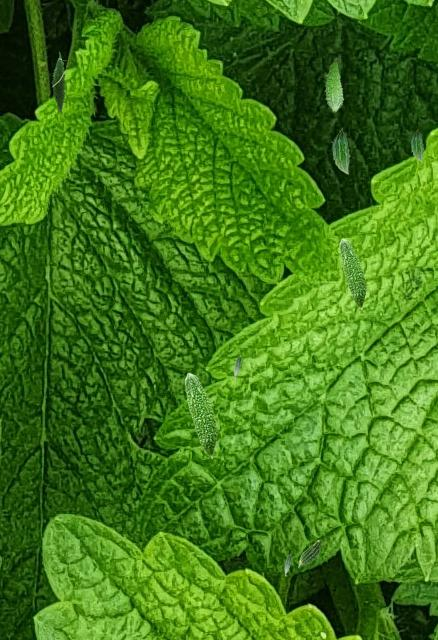ampalaya: (184, 372, 218, 459), (339, 238, 367, 310), (324, 57, 344, 113), (51, 51, 67, 114), (331, 128, 350, 174), (297, 539, 321, 567), (410, 128, 424, 162), (233, 354, 241, 379), (284, 553, 292, 576)
